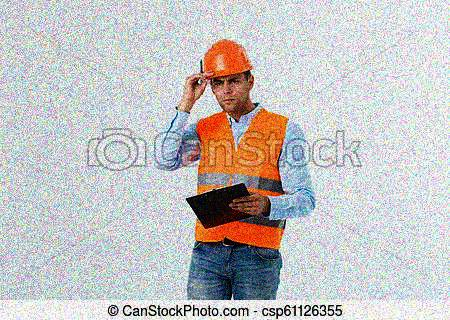helmet: (199, 38, 253, 115)
